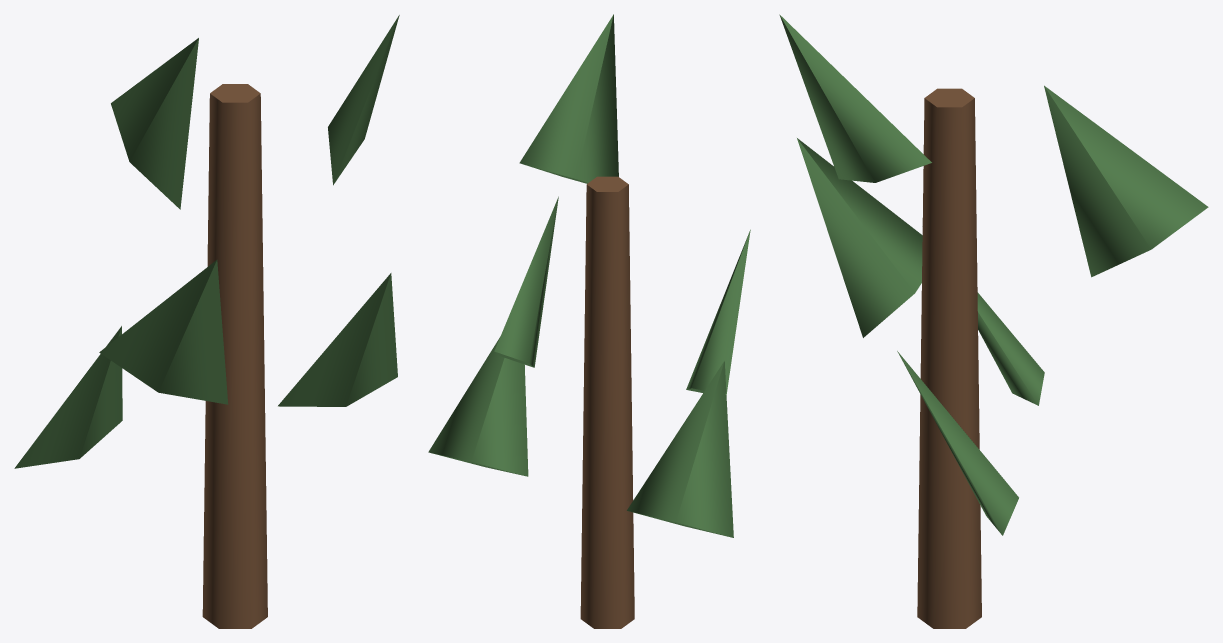
File: crop-grape-vine-stage-2-trained-young-vine.source.glb
3 views of the same model, side by side, from view 1: azimuth 30°, elevation 25°; view 2: azimuth 150°, elevation 25°; view 3: azimuth 270°, elevation 25° (orthographic). The views are drawn at different scales.
Visible parts, largest first — view 1: stake, vine-leaf-2, vine-leaf-3, vine-leaf-1, vine-leaf-5, vine-leaf-4; view 2: stake, vine-leaf-5, vine-leaf-4, vine-leaf-1, vine-leaf-3, vine-leaf-2; view 3: stake, vine-leaf-3, vine-leaf-2, vine-leaf-4, vine-leaf-1, vine-leaf-5.
Boxes of the visible parts, <box> form: stake: <box>202,84,267,628</box>; vine-leaf-2: <box>99,260,228,404</box>; vine-leaf-3: <box>111,38,198,209</box>; vine-leaf-1: <box>278,273,397,406</box>; vine-leaf-5: <box>14,326,122,468</box>; vine-leaf-4: <box>328,15,399,185</box>; stake: <box>580,176,634,628</box>; vine-leaf-5: <box>627,361,733,537</box>; vine-leaf-4: <box>519,14,618,183</box>; vine-leaf-1: <box>428,337,528,476</box>; vine-leaf-3: <box>494,196,558,367</box>; vine-leaf-2: <box>686,229,750,395</box>; stake: <box>917,88,981,628</box>; vine-leaf-3: <box>1044,85,1208,277</box>; vine-leaf-2: <box>797,138,922,337</box>; vine-leaf-4: <box>779,14,931,182</box>; vine-leaf-1: <box>897,351,1018,535</box>; vine-leaf-5: <box>977,292,1044,405</box>.
Bounding box in the file's own units: 0.466 × 0.7658 × 0.4649.
